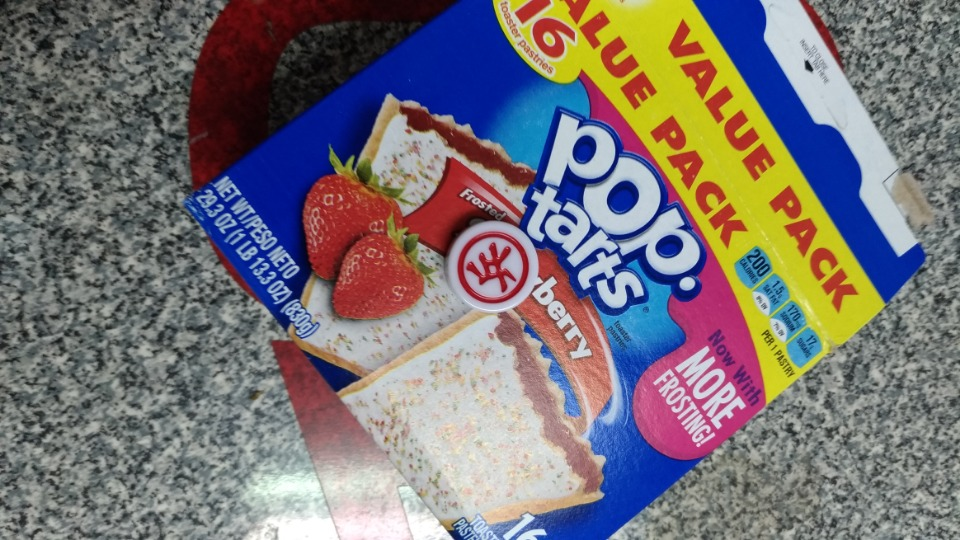r-pawn: (441, 218, 542, 322)
